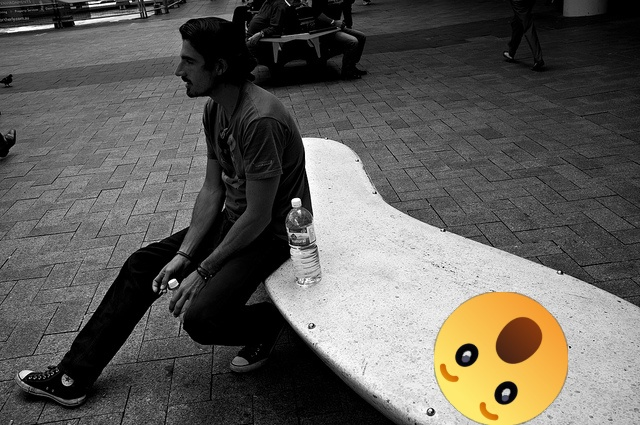wow: (434, 292, 568, 425)
